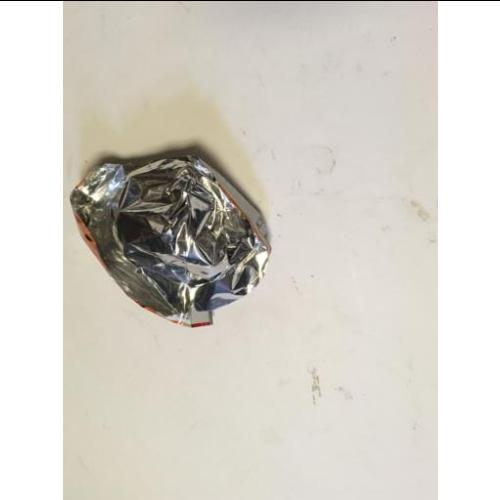plastic: (70, 151, 271, 329)
